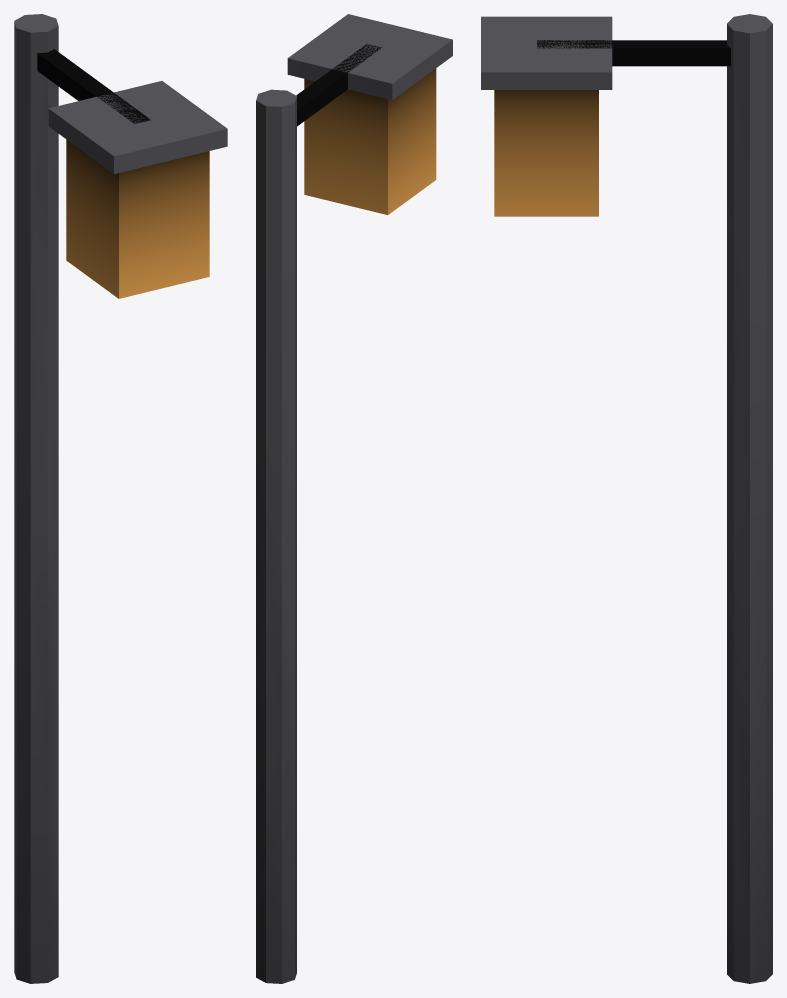
File: lamp_post.glb
3 views of the same model, side by side, from view 1: azimuth 30°, elevation 25°; view 2: azimuth 150°, elevation 25°; view 3: azimuth 270°, elevation 25° (orthographic). The views are drawn at different scales.
Parts seen in each view (by area): view 1: lamp_post; view 2: lamp_post; view 3: lamp_post.
Boxes of the visible parts, x1,y1,x2,y2 form: lamp_post: (14, 14, 227, 983); lamp_post: (256, 14, 452, 983); lamp_post: (481, 14, 772, 983).
Bounding box in the file's own units: 0.4 × 3.2 × 0.89.
